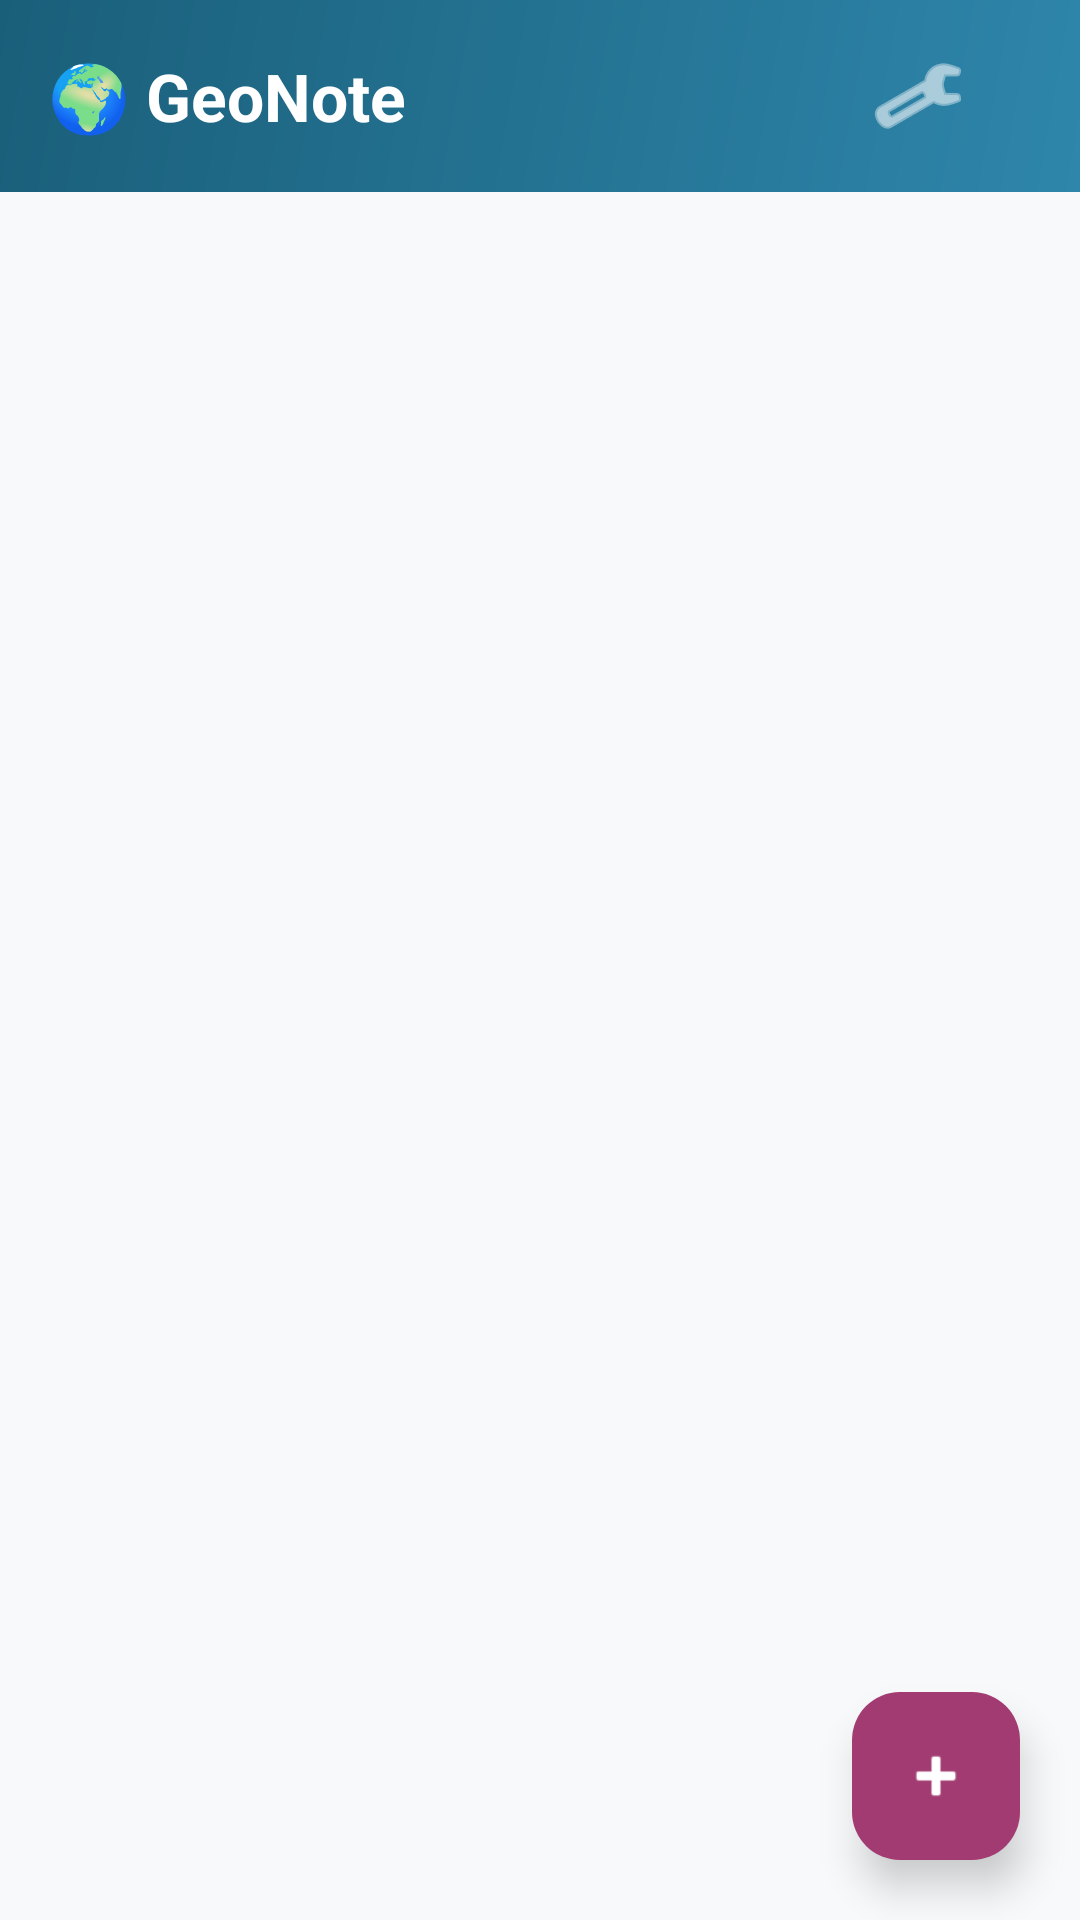

Where icons sit on this 1080 x 1920 app screen, as rect(x1, y1, x2, y2):
Ajouter: rect(852, 1692, 1020, 1860)
Paramètres: rect(875, 63, 961, 129)
